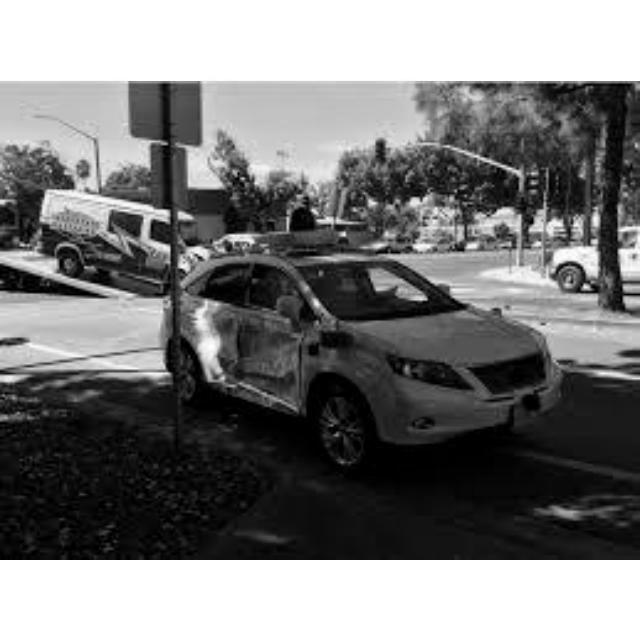doorouter-dent: (230, 307, 306, 391)
fender-dent: (327, 330, 388, 384)
